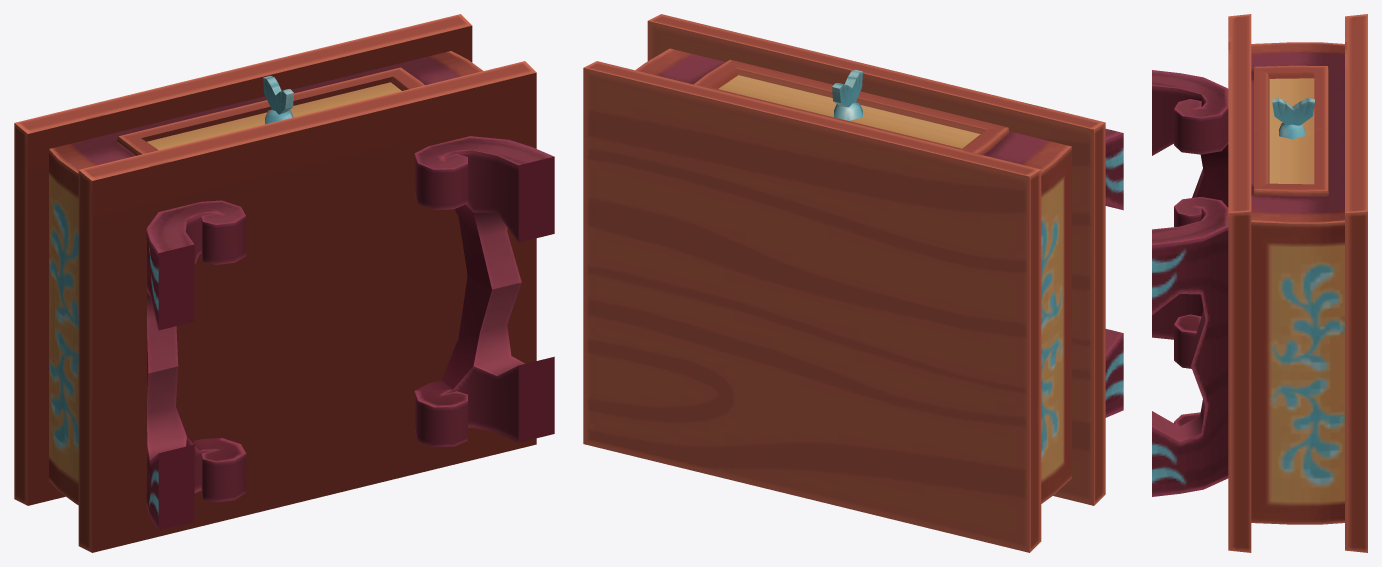
The model's file is WizardDesk.fbx.
3 views of the same model, side by side, from view 1: azimuth 30°, elevation 25°; view 2: azimuth 150°, elevation 25°; view 3: azimuth 270°, elevation 25° (orthographic). The views are drawn at different scales.
Visible parts, largest first — view 1: WizardDesk; view 2: WizardDesk; view 3: WizardDesk.
Part boxes in pixels (x1,y1,x2,y2): WizardDesk: [14, 14, 554, 552]; WizardDesk: [583, 14, 1123, 552]; WizardDesk: [1152, 14, 1367, 552].
Size of the model in its own units: 82.47 by 68.96 by 38.06.
